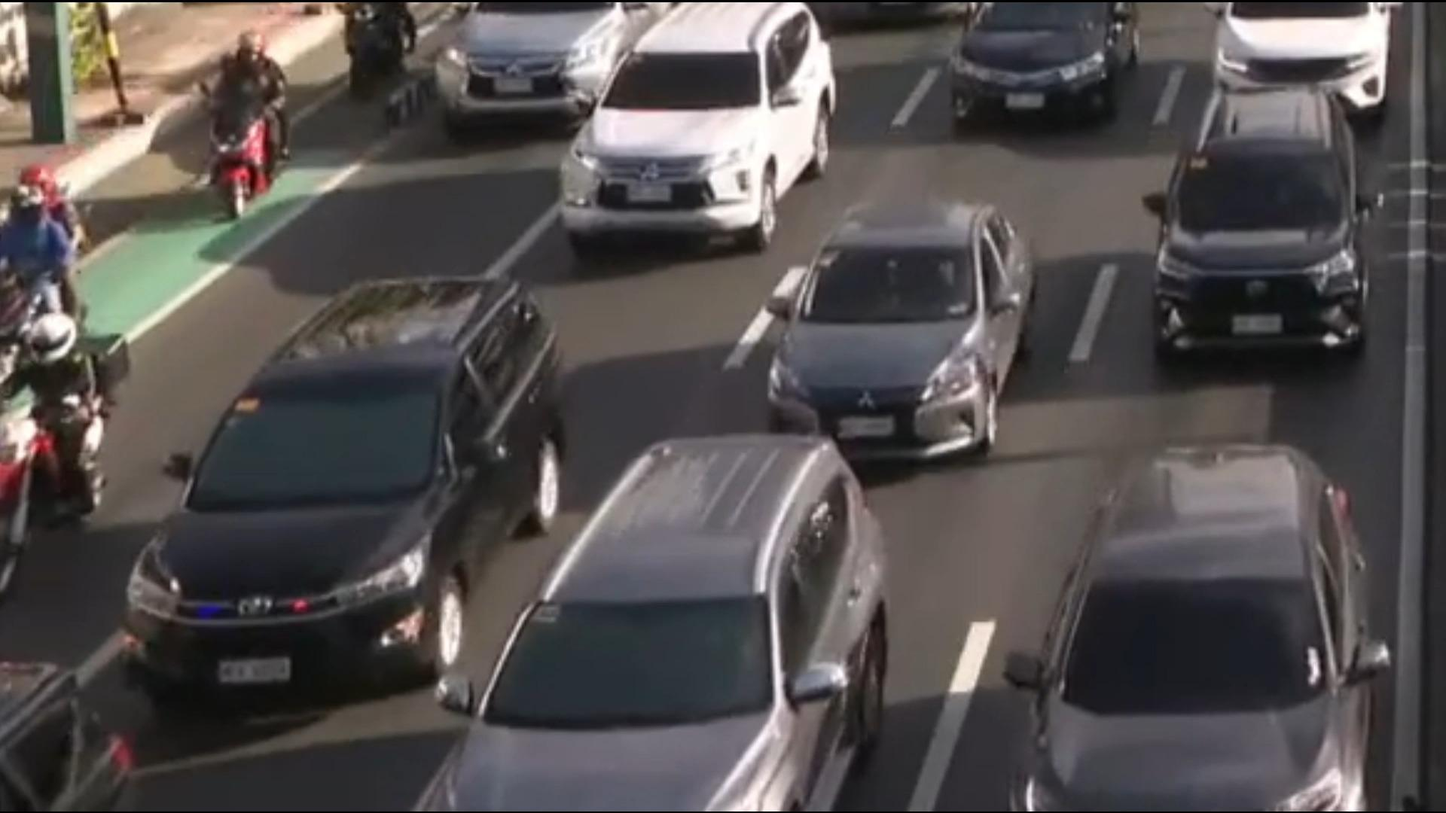Motorcycle: (168, 17, 326, 241), (0, 286, 117, 587), (0, 146, 132, 365), (330, 0, 421, 104)
SUV: (97, 259, 617, 730), (394, 433, 951, 813), (1000, 435, 1432, 813), (1100, 81, 1394, 383), (537, 0, 848, 259), (418, 0, 676, 149), (929, 0, 1170, 121), (1207, 0, 1411, 119)
Sedan: (742, 174, 1064, 468)
